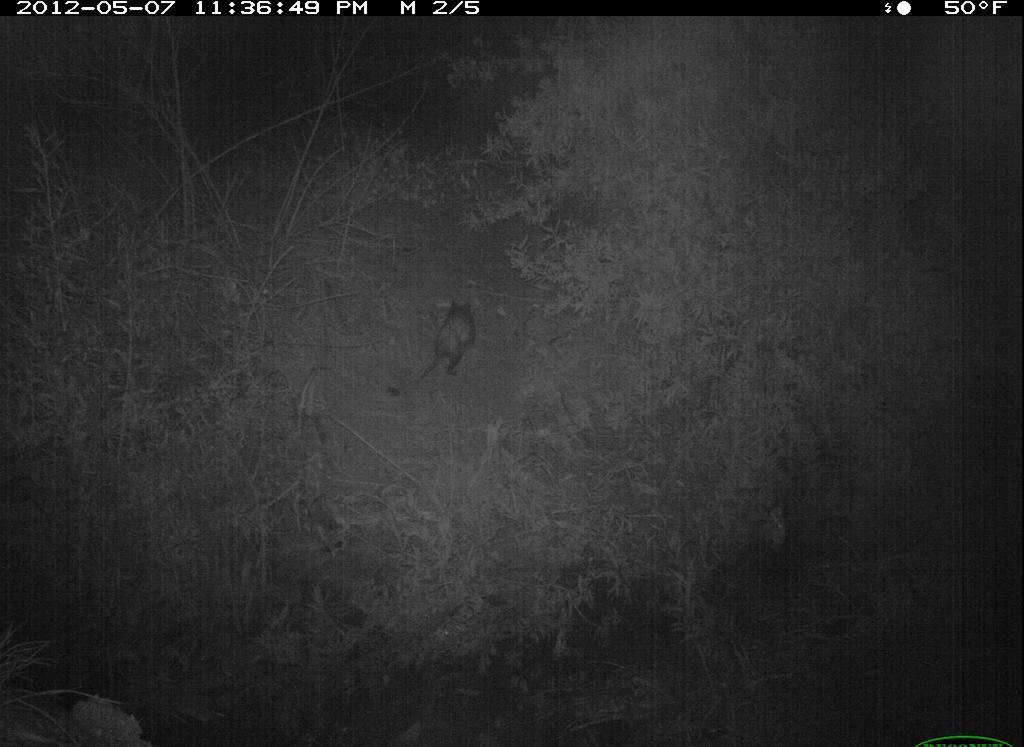opossum: (402, 289, 484, 408)
